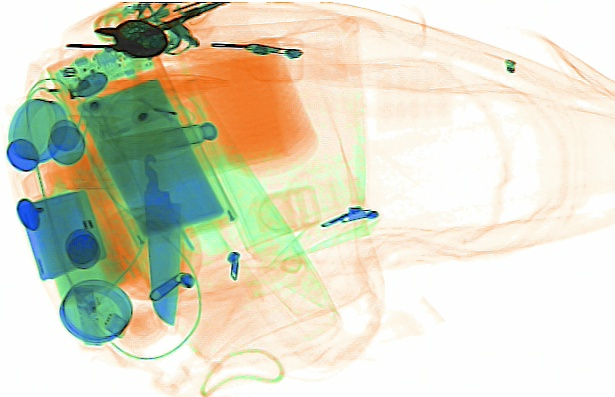knife: (130, 115, 186, 330)
